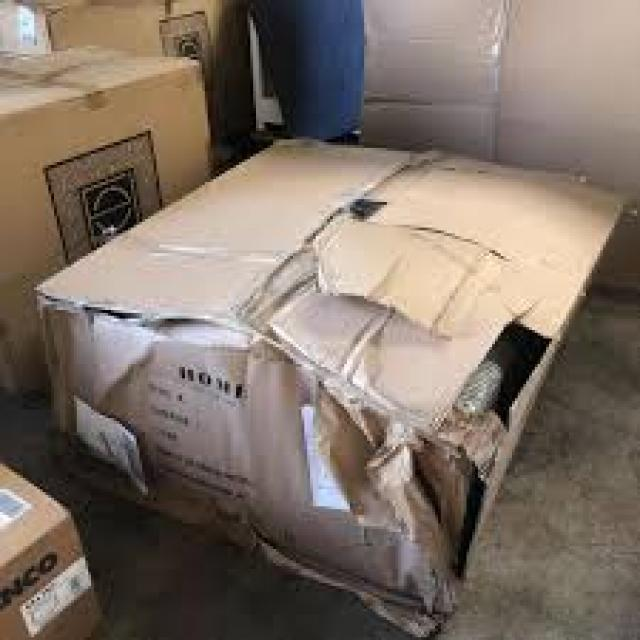hole: (419, 311, 555, 597)
